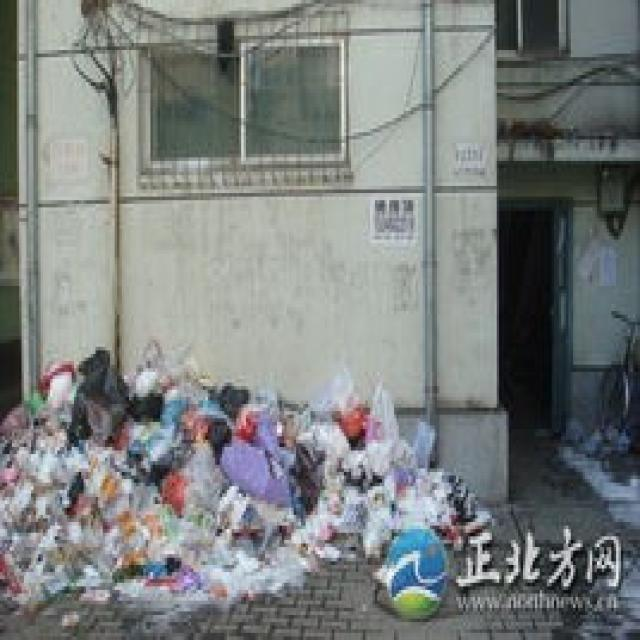garbage: (0, 340, 473, 615)
